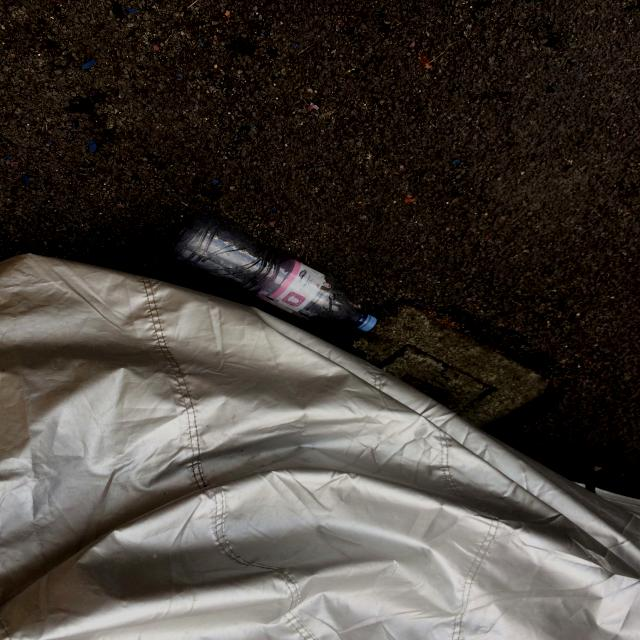Clear plastic bottle: (169, 215, 377, 332)
Plastic bottle cap: (359, 315, 377, 331)
